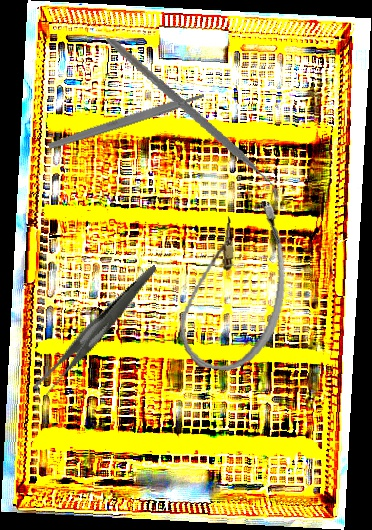Cannula: (174, 191, 297, 378)
Chopper: (82, 37, 302, 207)
Dressing Forceps: (10, 264, 185, 401)
Scalpel Handle: (47, 91, 206, 151)
